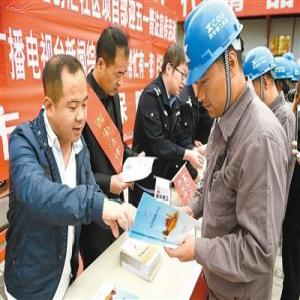blue: (183, 2, 243, 118), (244, 46, 277, 107)
none: (42, 53, 88, 143), (94, 25, 131, 99), (162, 44, 189, 99)
